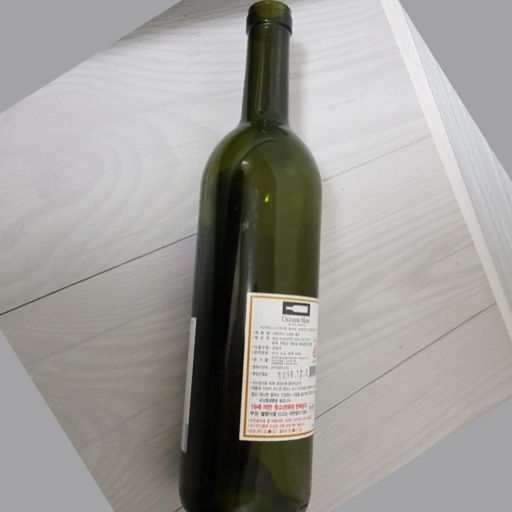Glass_2: (173, 1, 331, 512)
